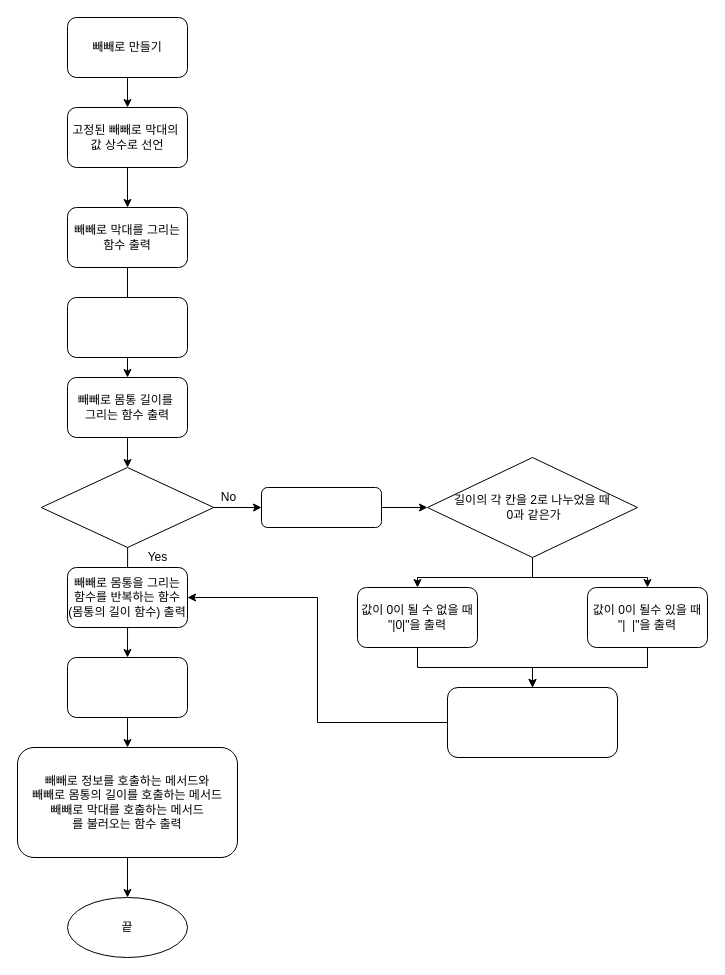
Some shapes in this 725 by 975 pixel diagram are drawn without their labels. Here are the shapes that lost their labels. From the top down, the centre of each, then its label:
[127,327]: 빼빼로의 몸통을 그리는 함수 출력
[127,507]: 빼빼로 몸통의 모양이 "***"인가?
[321,507]: 누드 빼빼로 만들기
[127,687]: 매개변수의 따른 각각의 정보를 호출하는 출력문을 함수로 호출
[532,722]: 몸통의 모양이 누드 빼빼로일 때의 조건문을 추가하기
